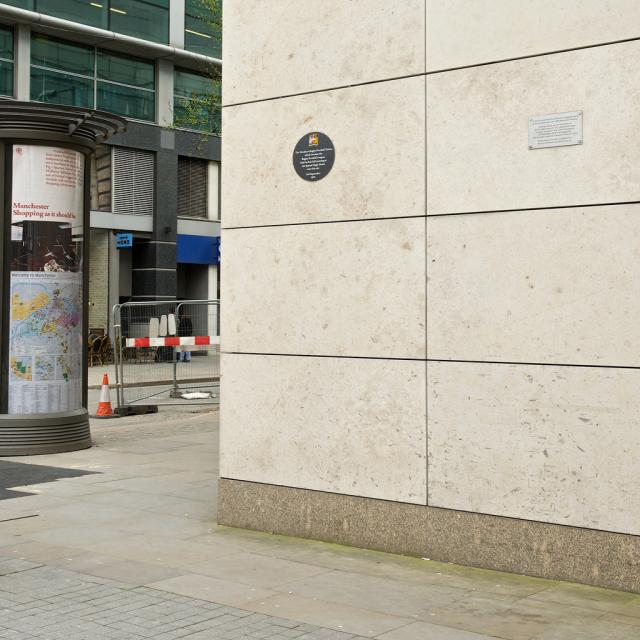no_fire: (14, 17, 632, 640)
